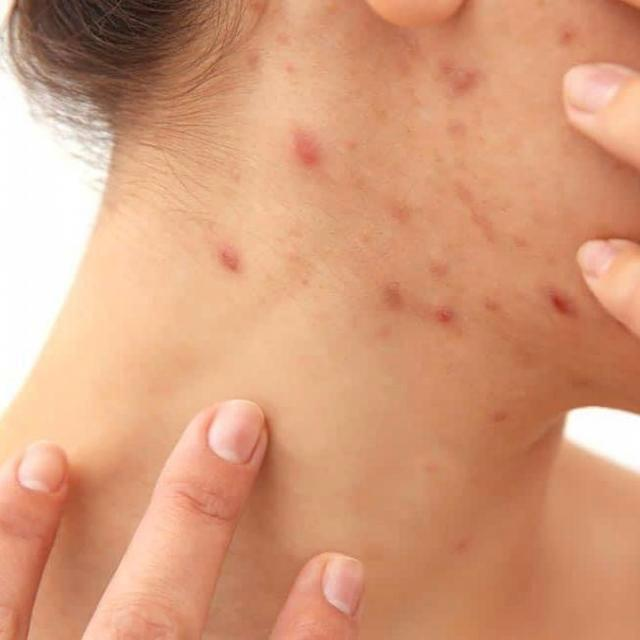Pimples: (376, 268, 414, 333), (436, 52, 480, 99), (284, 123, 328, 169), (544, 281, 582, 318), (214, 240, 243, 276), (428, 295, 460, 327), (391, 186, 412, 212), (558, 22, 580, 46)
